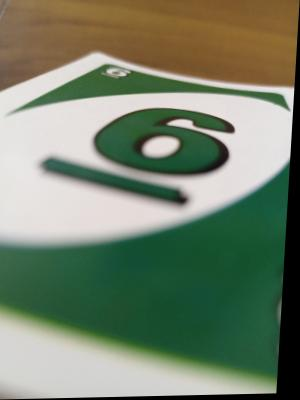green: (31, 81, 272, 335)
